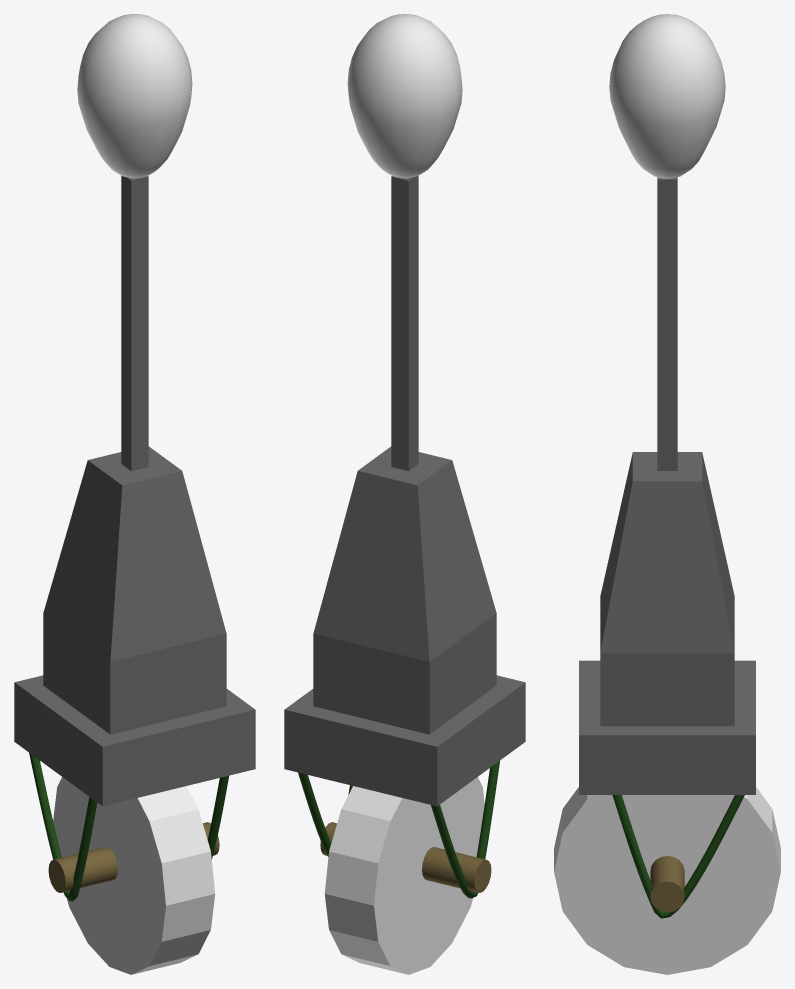
The model's file is SmallRobot.fbx.
3 renders of one model, left to right at view 1: azimuth 30°, elevation 25°; view 2: azimuth 150°, elevation 25°; view 3: azimuth 270°, elevation 25°, orthographic.
Parts seen in each view (by area): view 1: Cylinder.002, Cylinder.001; view 2: Cylinder.002, Cylinder.001; view 3: Cylinder.002, Cylinder.001.
Part boxes in pixels (x1=…): Cylinder.002: x1=14, y1=14, x2=255, y2=901; Cylinder.001: x1=53, y1=777, x2=215, y2=974; Cylinder.002: x1=284, y1=14, x2=525, y2=898; Cylinder.001: x1=324, y1=777, x2=484, y2=974; Cylinder.002: x1=579, y1=14, x2=755, y2=918; Cylinder.001: x1=554, y1=787, x2=780, y2=974.
Size of the model in its own units: 1.58 by 9.19 by 2.
